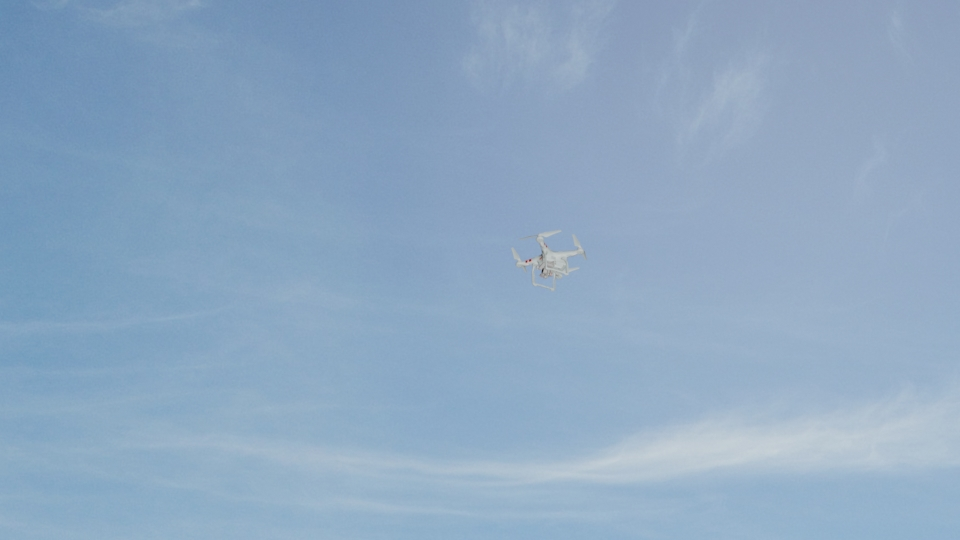drone: (509, 228, 590, 295)
